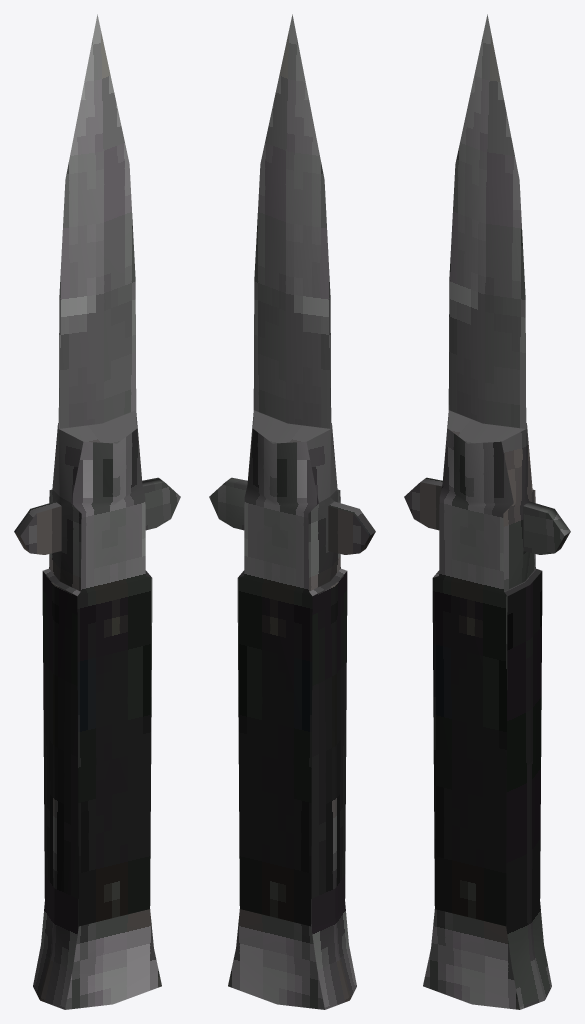
File: knife.glb
3 views of the same model, side by side, from view 1: azimuth 30°, elevation 25°; view 2: azimuth 150°, elevation 25°; view 3: azimuth 330°, elevation 25° (orthographic).
Visible parts, largest first — view 1: knife; view 2: knife; view 3: knife.
Boxes of the visible parts, x1=… form: knife: x1=14, y1=14, x2=180, y2=1009; knife: x1=209, y1=14, x2=375, y2=1009; knife: x1=404, y1=14, x2=570, y2=1009.
Bounding box in the file's own units: 0.0608 × 0.3544 × 0.026.
Materials: 1 (1 with a texture image).
